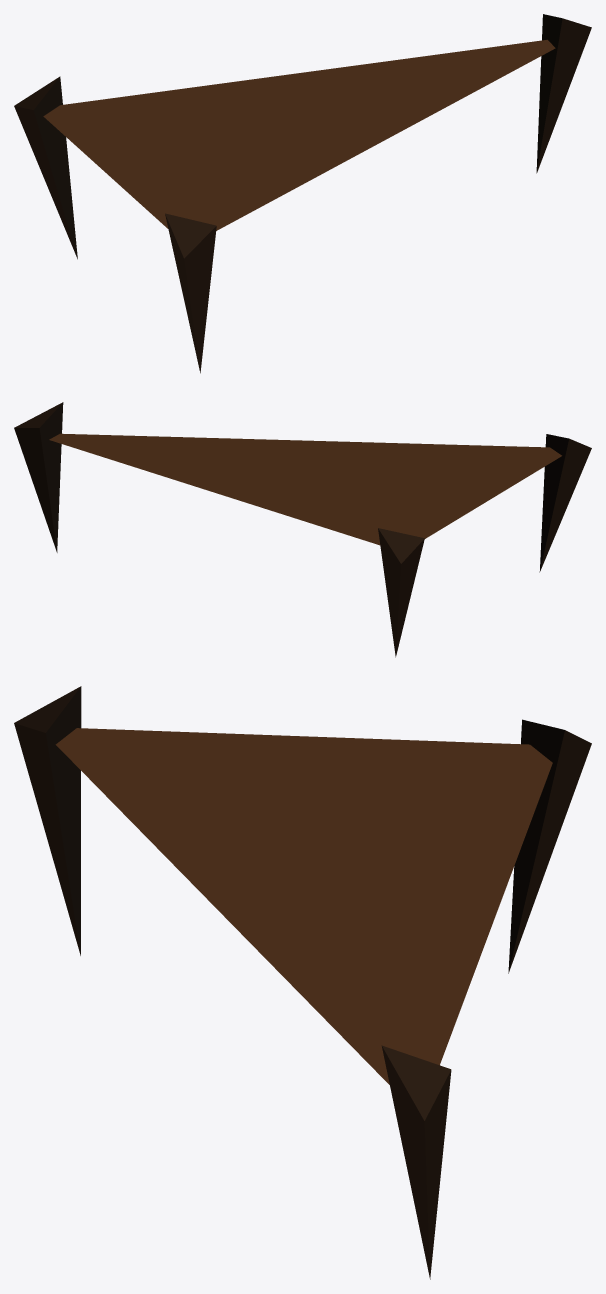
Rendered from c_furniture_table_triangle_wood_aa.fbx.
The picture shows the model from 3 angles, top to bottom: view 1: azimuth 30°, elevation 25°; view 2: azimuth 150°, elevation 25°; view 3: azimuth 270°, elevation 25°; orthographic projection. The views are drawn at different scales.
Parts seen in each view (by area): view 1: c_furniture_table_triangle_wood_aa; view 2: c_furniture_table_triangle_wood_aa; view 3: c_furniture_table_triangle_wood_aa.
Part boxes in pixels (left/top/right/bottom): c_furniture_table_triangle_wood_aa: left=14, top=14, right=591, bottom=373; c_furniture_table_triangle_wood_aa: left=14, top=402, right=591, bottom=657; c_furniture_table_triangle_wood_aa: left=14, top=686, right=591, bottom=1279.
Bounding box in the file's own units: 1.94 × 0.5703 × 1.22.
